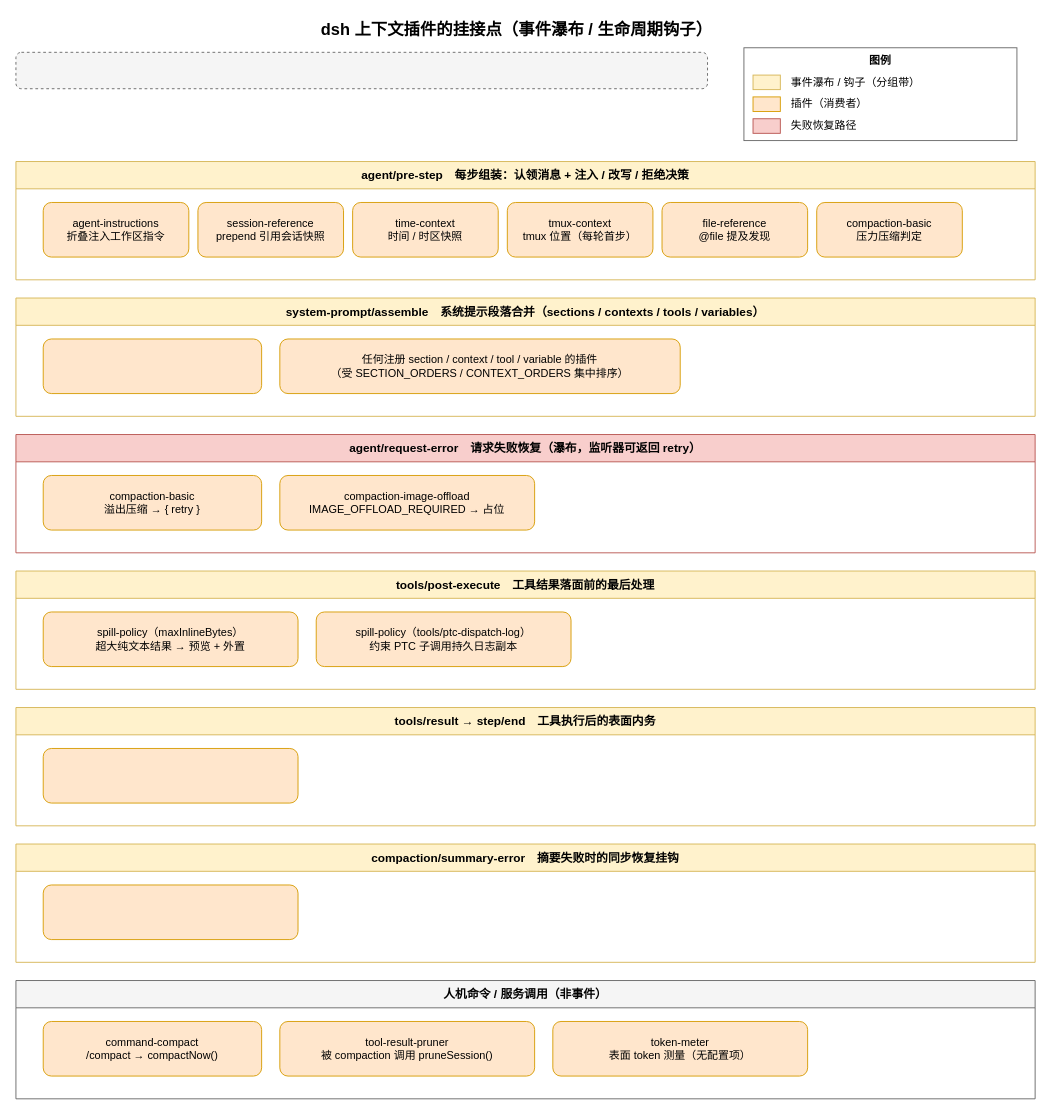
Some shapes in this 1051 by 1115 pixel diagram are drawn without their labels. The centre of each missing label's shape, as x and y in pixels:
"agent-instructions read / write / edit 后排队指令刷新" belongs at [170,775].
"compaction-image-offload 图像能力不足 → 降级" belongs at [170,912].
"session-reference 引用提及展开 + 提示段落" belongs at [152,366].
"注入产物：以 user 角色消息进入 session 表面 → 持久化、可重放、与其他对话内容一样可被压缩" belongs at [361,70].
